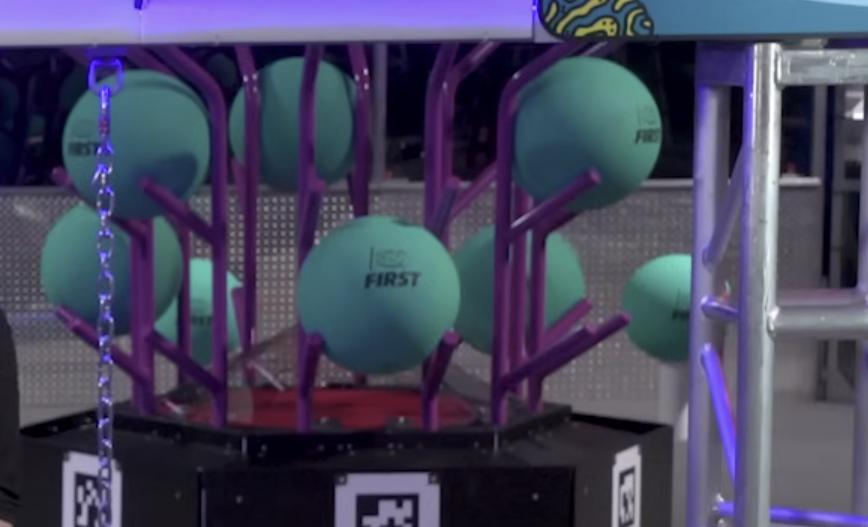algae: (296, 217, 459, 375), (513, 58, 662, 210), (62, 68, 210, 218), (41, 202, 185, 335), (453, 223, 586, 354), (229, 57, 358, 191), (154, 259, 243, 367), (621, 254, 694, 363)
coral: (658, 363, 690, 440)
